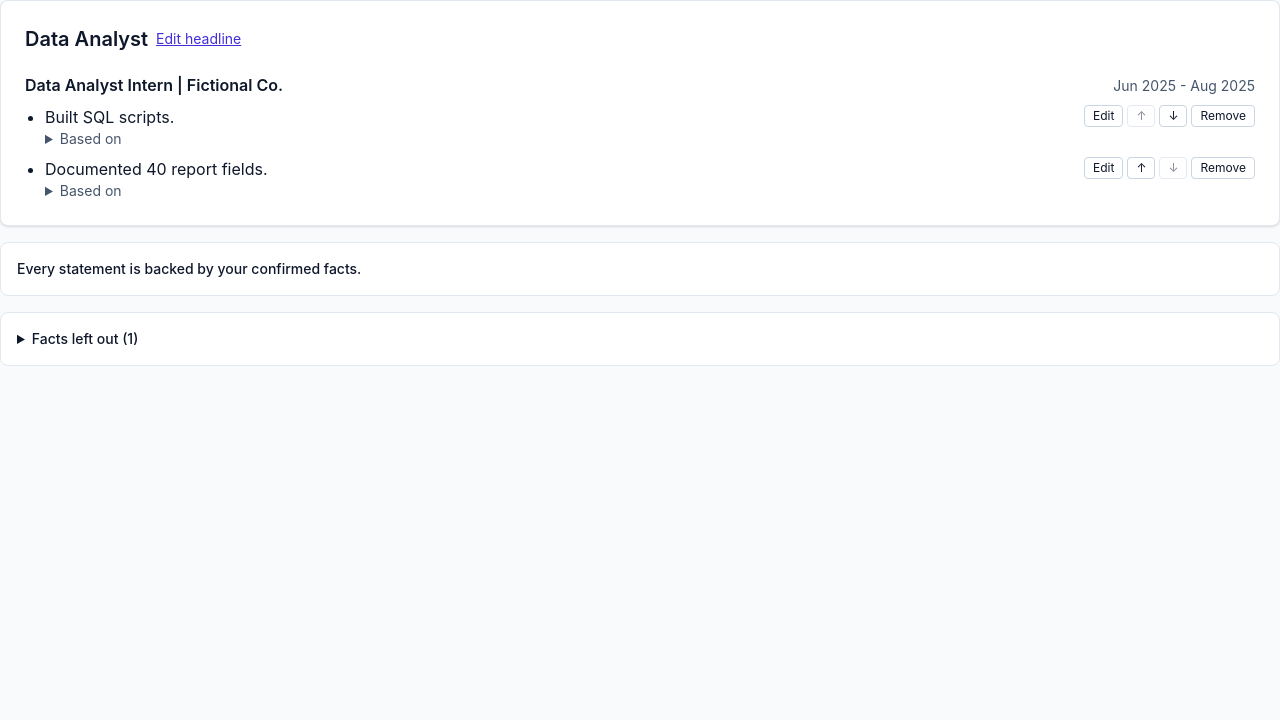
Scenario: DraftEditor › shows why an unsupported edit was rejected
Click the button "Edit" in the row of "Built SQL scripts." at (1104, 116), box top-left (1084, 105), bottom-right (1123, 127)
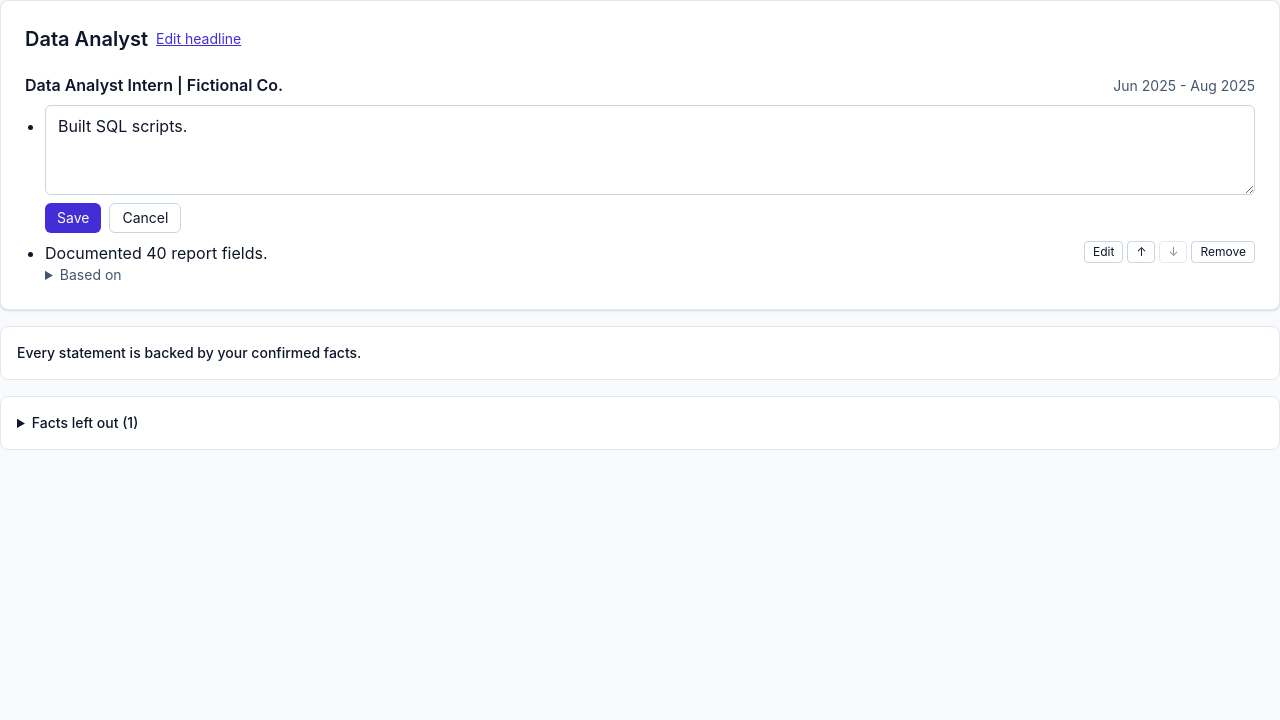
Replace the text in the text box named "Bullet text" with "Built SQL scripts that cut costs 40%." at (650, 150), box top-left (45, 105), bottom-right (1255, 195)
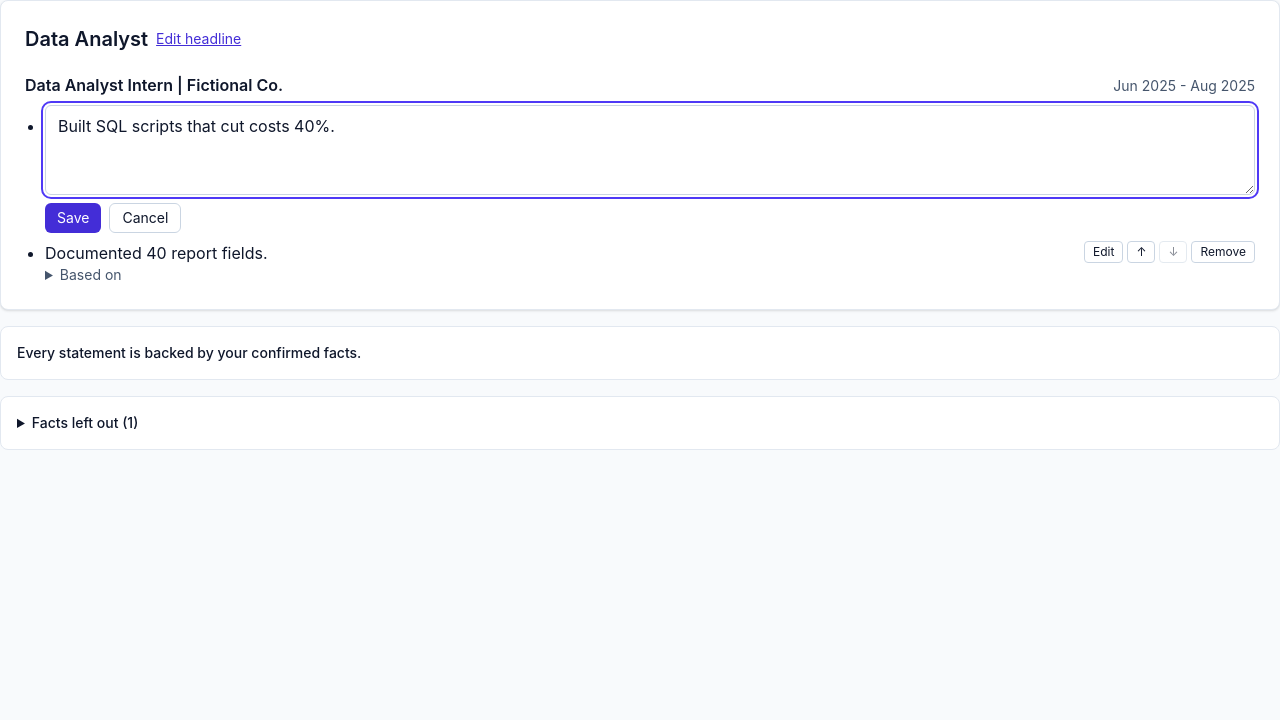
Click the button "Save" at (73, 218), box top-left (45, 203), bottom-right (101, 233)
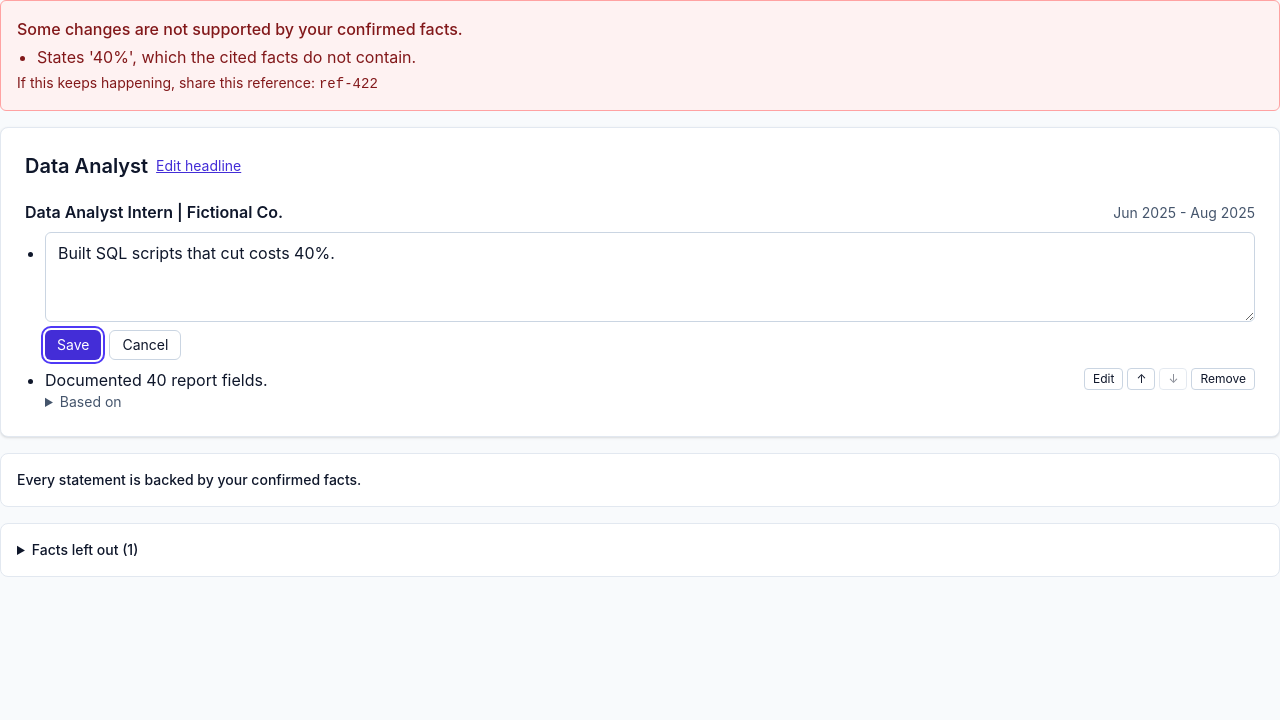
Check: the message shows "not supported by your confirmed facts", box top-left (17, 19), bottom-right (463, 39)
Check: the message shows "States '40%'", box top-left (37, 47), bottom-right (416, 67)
